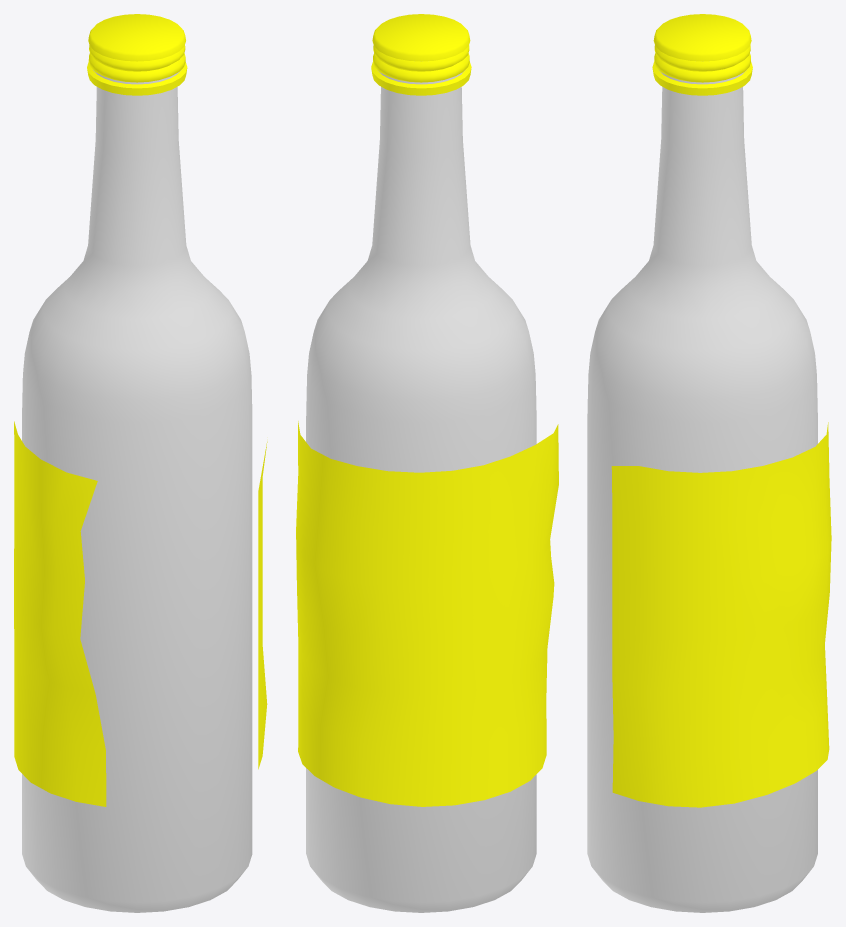
Rendered from SM_BottleOfVodka01.glb.
3 renders of one model, left to right at view 1: azimuth 30°, elevation 25°; view 2: azimuth 150°, elevation 25°; view 3: azimuth 270°, elevation 25°, orthographic.
Parts seen in each view (by area): view 1: SM_BottleOfVodka01_LOD0; view 2: SM_BottleOfVodka01_LOD0; view 3: SM_BottleOfVodka01_LOD0.
Part boxes in pixels (x1,y1,x2,y2): SM_BottleOfVodka01_LOD0: (14,14,267,912); SM_BottleOfVodka01_LOD0: (296,14,558,912); SM_BottleOfVodka01_LOD0: (587,14,831,912).
Size of the model in its own units: 0.084 by 0.3002 by 0.0795.
2 materials, 1 textured.
